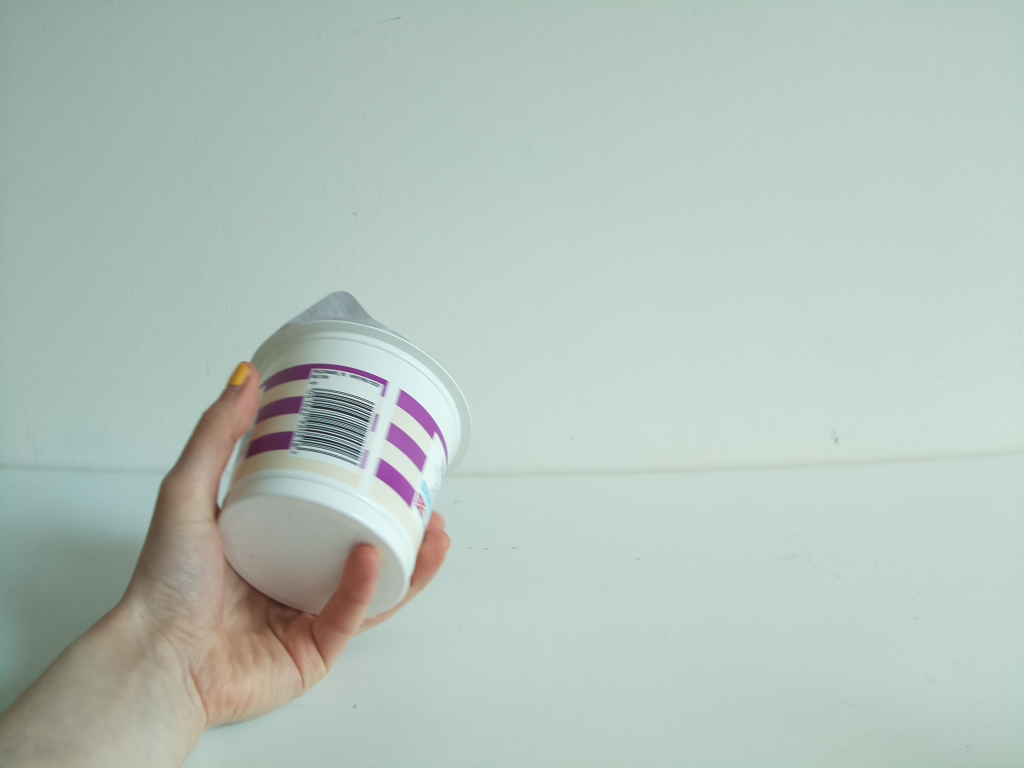cream: (208, 291, 482, 624)
